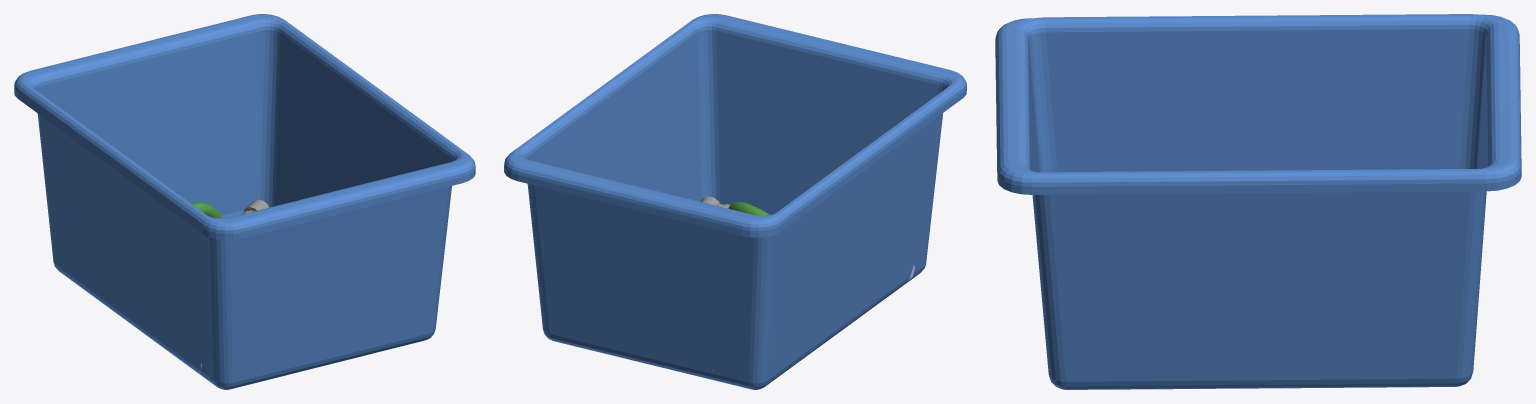
The picture shows the model from 3 angles, left to right: view 1: azimuth 30°, elevation 25°; view 2: azimuth 150°, elevation 25°; view 3: azimuth 270°, elevation 25°; orthographic projection. The views are drawn at different scales.
Parts seen in each view (by area): view 1: bin, tube_0_Y; view 2: bin; view 3: bin.
Part boxes in pixels (bbox=[...]): bin: bbox=[14, 14, 475, 389]; tube_0_Y: bbox=[192, 199, 269, 372]; bin: bbox=[504, 14, 966, 389]; bin: bbox=[995, 14, 1521, 389].
Bounding box in the file's own units: 0.2945 × 0.1973 × 0.3978.
